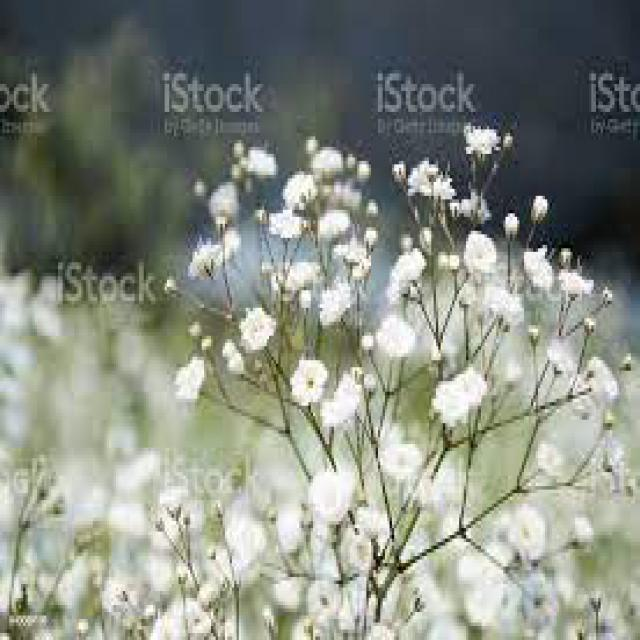gypsophila: (453, 215, 506, 289), (436, 366, 489, 434), (580, 344, 623, 425), (310, 460, 358, 530), (485, 273, 532, 339), (235, 294, 278, 361), (376, 312, 431, 364), (278, 168, 334, 218), (287, 359, 335, 415), (170, 348, 210, 414), (261, 196, 315, 243), (518, 238, 556, 303), (554, 258, 598, 304), (543, 324, 571, 384)
